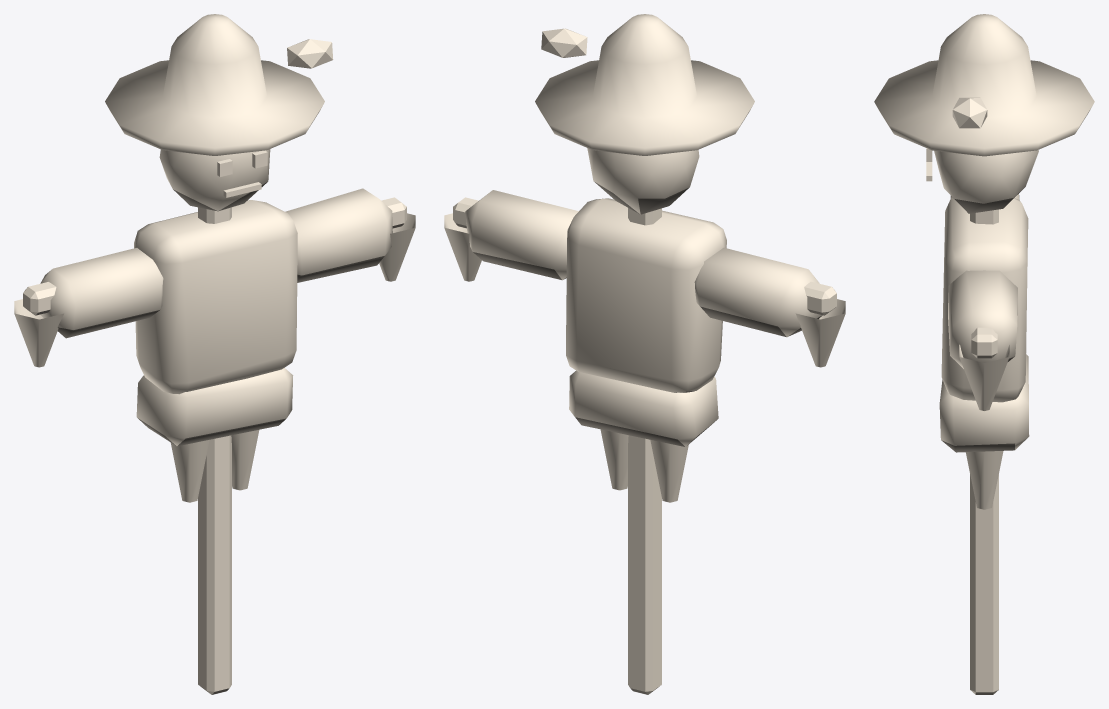
The model's file is SM_VK_Prop_Scarecrow.fbx.
The picture shows the model from 3 angles, left to right: view 1: azimuth 30°, elevation 25°; view 2: azimuth 150°, elevation 25°; view 3: azimuth 270°, elevation 25°; orthographic projection.
Visible parts, largest first — view 1: SM_VK_Prop_Scarecrow.001; view 2: SM_VK_Prop_Scarecrow.001; view 3: SM_VK_Prop_Scarecrow.001.
Boxes of the visible parts, <box> form: SM_VK_Prop_Scarecrow.001: <box>14,14,415,694</box>; SM_VK_Prop_Scarecrow.001: <box>444,14,845,694</box>; SM_VK_Prop_Scarecrow.001: <box>874,14,1094,694</box>.
Bounding box in the file's own units: 1.6 × 2.56 × 0.76.
